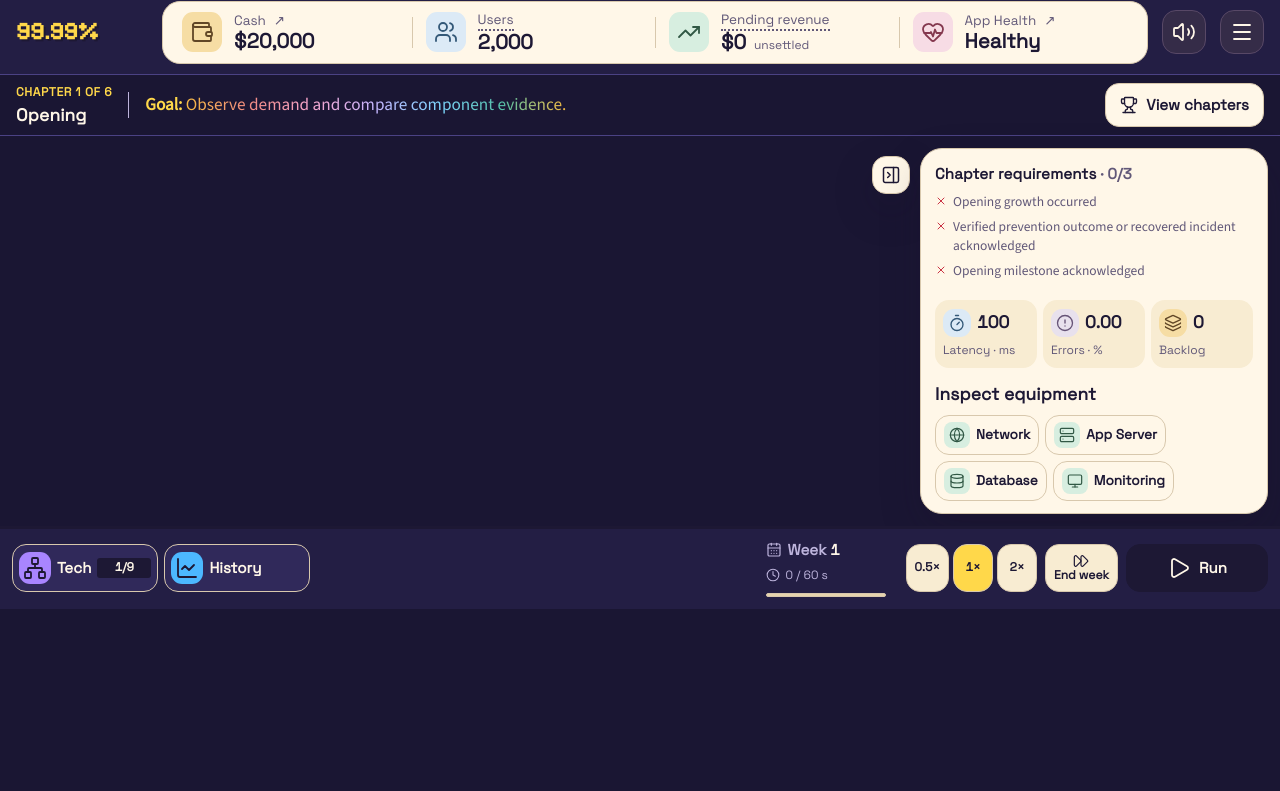
Scenario: shows nine technology nodes with derived database ownership and locked future nodes
What coordinates should you click on to do the following:
click the button "Tech 1/9"
I would click on:
 (85, 568)
Its box is [12,544,158,592].
(page scrolled)
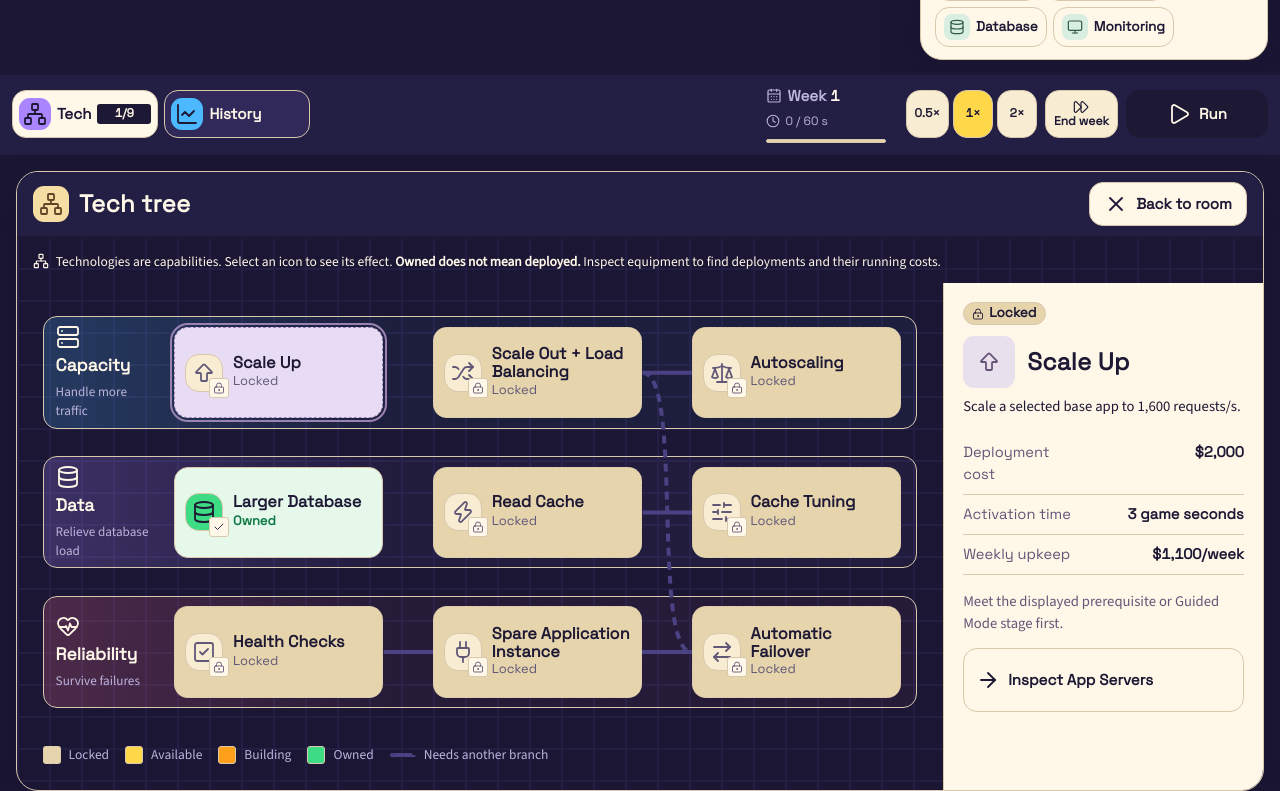
Now the button with aria-label "Larger Database: Owned" is shown, box [174,467,384,558]
Now the button with aria-label "Health Checks: Locked" is shown, box [174,606,384,698]
